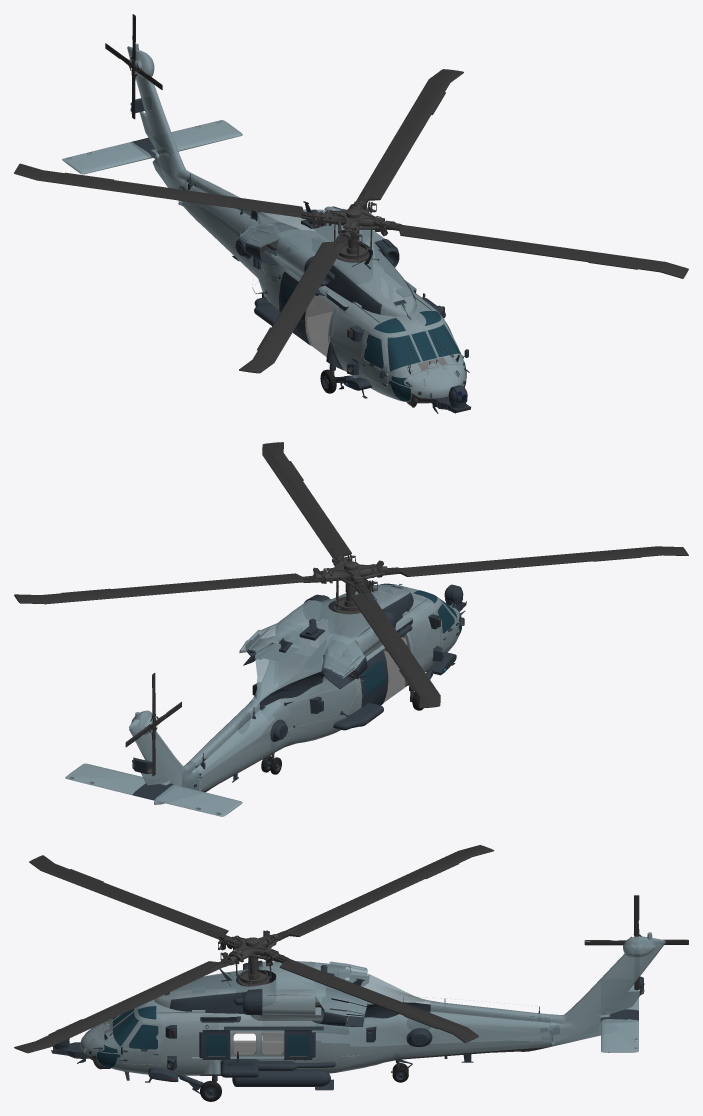
File: sea-hawk-sh-60-cleanup.fbx
The picture shows the model from 3 angles, top to bottom: view 1: azimuth 30°, elevation 25°; view 2: azimuth 150°, elevation 25°; view 3: azimuth 270°, elevation 25°; orthographic projection. The views are drawn at different scales.
Visible parts, largest first — view 1: object.001, main_rot, blade; view 2: object.001, main_rot, blade; view 3: object.001, main_rot, blade.
Part boxes in pixels (box(x1,y1,x2,y2)): object.001: box(62, 43, 470, 413); main_rot: box(14, 69, 688, 373); blade: box(105, 14, 162, 119); object.001: box(65, 581, 466, 816); main_rot: box(14, 442, 688, 708); blade: box(125, 673, 181, 776); object.001: box(51, 932, 665, 1101); main_rot: box(14, 845, 494, 1053); blade: box(584, 895, 688, 989).
Size of the model in its own units: 1238 by 514 by 1736.
